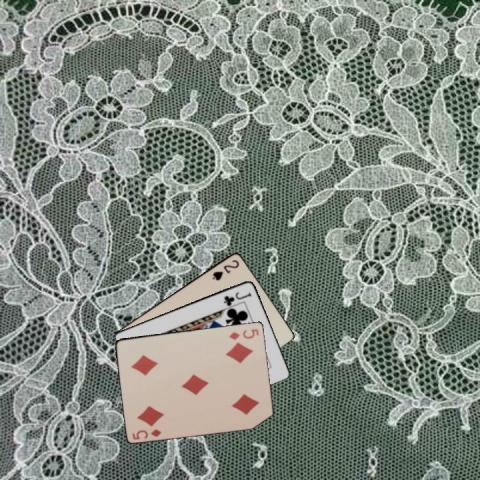2s: (209, 257, 241, 282)
5d: (226, 326, 260, 341), (129, 426, 163, 441)
Jc: (221, 289, 253, 306)
